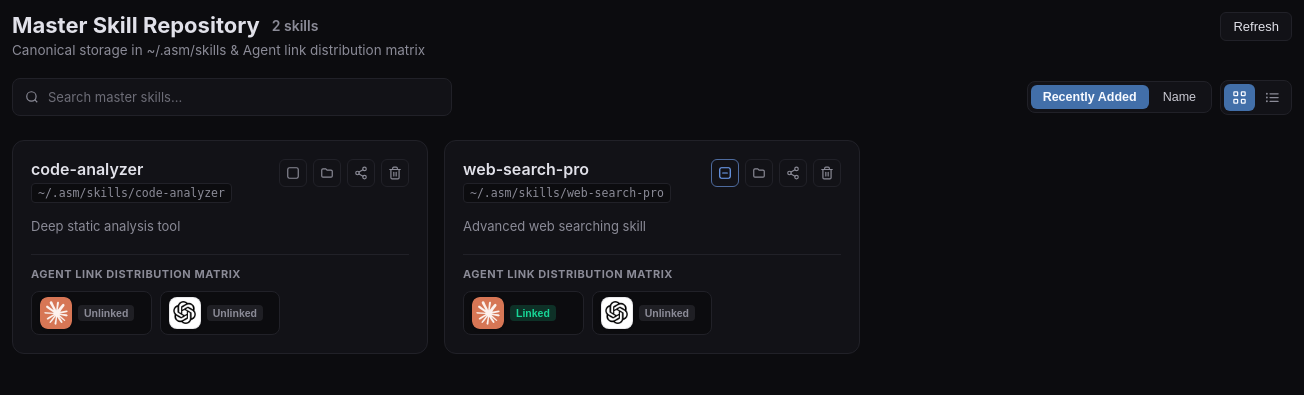
Test: SkillLibrary Route › moves secondary list actions into an explicit more-actions menu
Click the button named "List view". click: x=1272, y=97
box: left=1257, top=84, right=1288, bottom=110
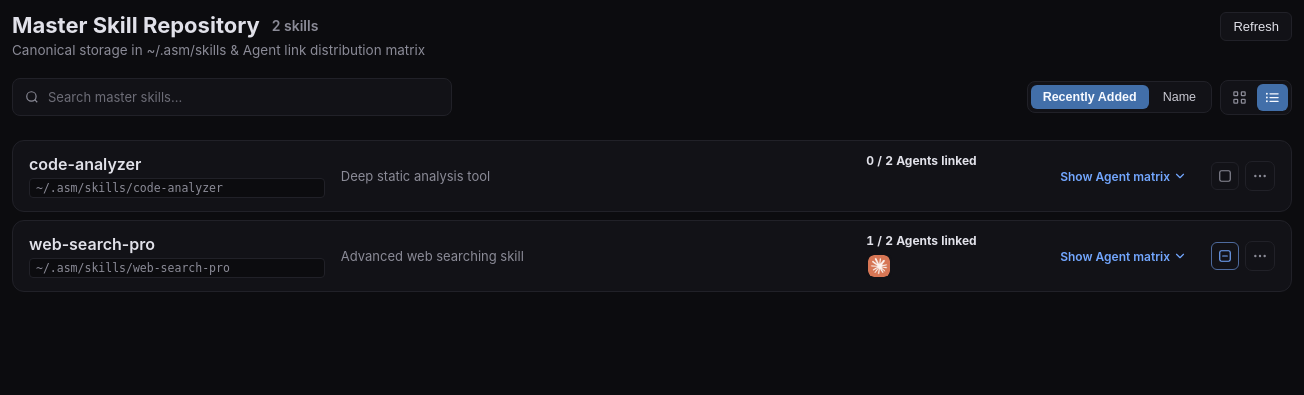
Click the button named "More actions for web-search-pro". click: x=1260, y=256
box: left=1245, top=241, right=1275, bottom=271
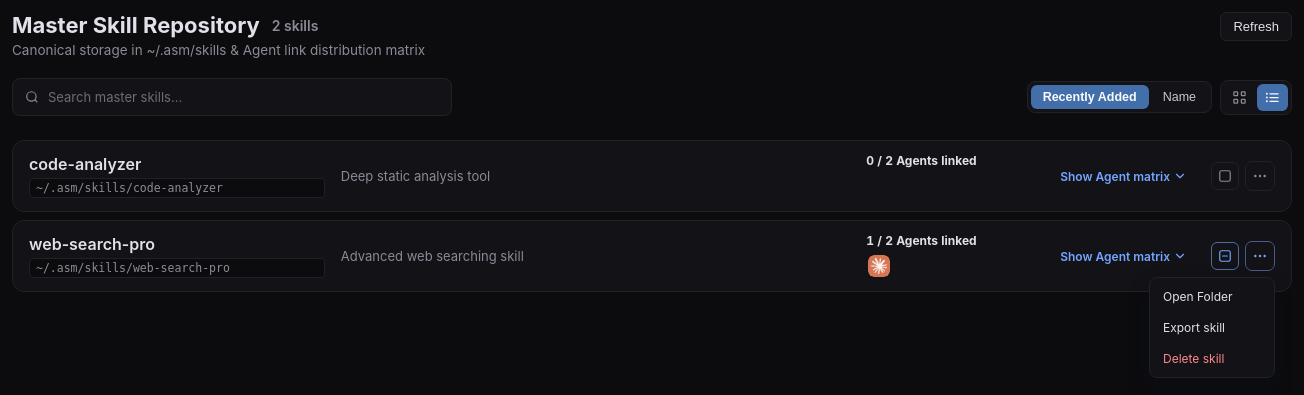
expect the button "Open Folder" is shown: met, box left=1154, top=282, right=1270, bottom=311
expect the button "Export skill" is shown: met, box left=1154, top=313, right=1270, bottom=342
expect the button with aria-label "Delete skill web-search-pro" is shown: met, box left=1154, top=344, right=1270, bottom=373
